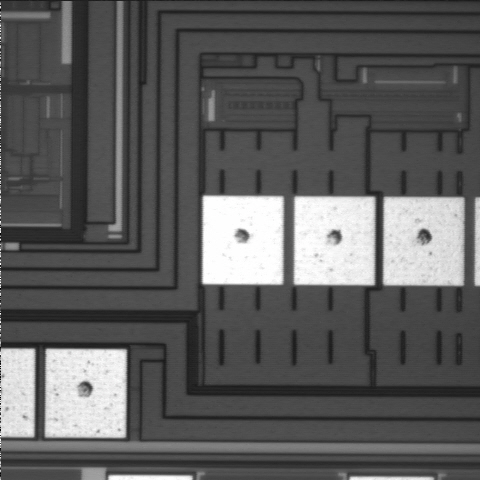pad: (202, 196, 284, 285), (294, 196, 375, 285), (45, 349, 126, 438), (383, 197, 464, 285)
